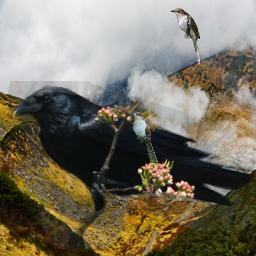Crow: (3, 81, 254, 249)
Cuckoo: (170, 8, 200, 65), (131, 112, 159, 166)
